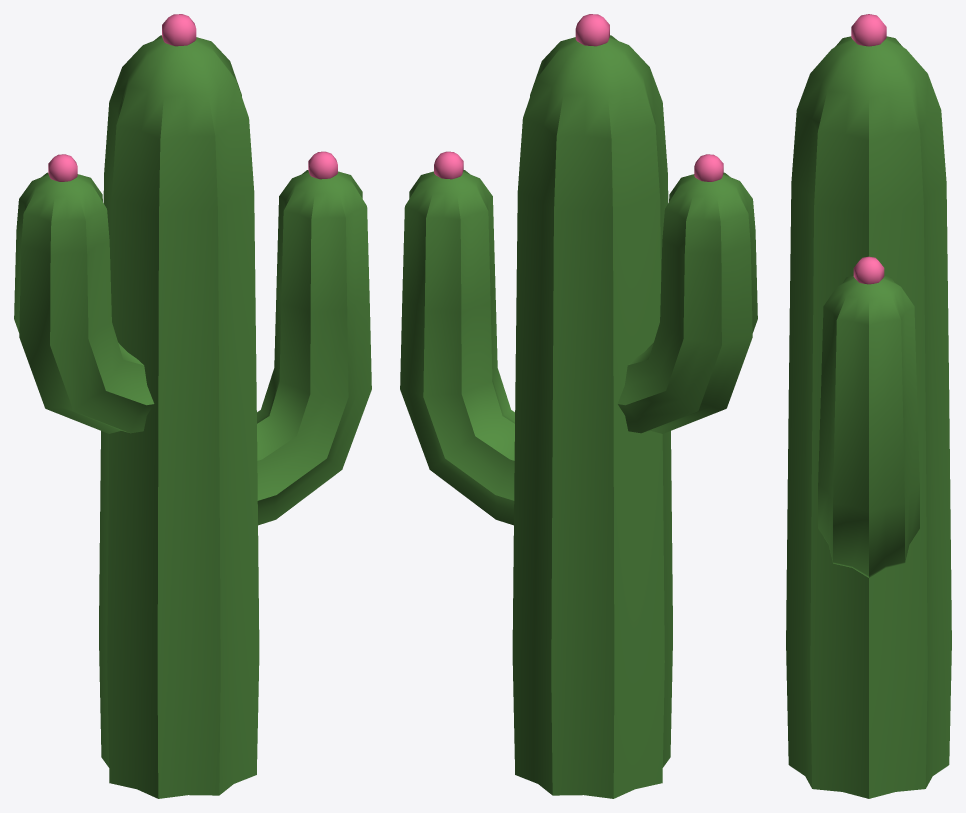
The model's file is cactus.glb.
3 views of the same model, side by side, from view 1: azimuth 30°, elevation 25°; view 2: azimuth 150°, elevation 25°; view 3: azimuth 270°, elevation 25° (orthographic).
Parts seen in each view (by area): view 1: Cactus_Mesh; view 2: Cactus_Mesh; view 3: Cactus_Mesh.
Boxes of the visible parts, bbox=[...] form: Cactus_Mesh: bbox=[14, 14, 371, 798]; Cactus_Mesh: bbox=[400, 14, 757, 798]; Cactus_Mesh: bbox=[786, 14, 951, 798].
Bounding box in the file's own units: 1.5 × 3.09 × 0.62.
